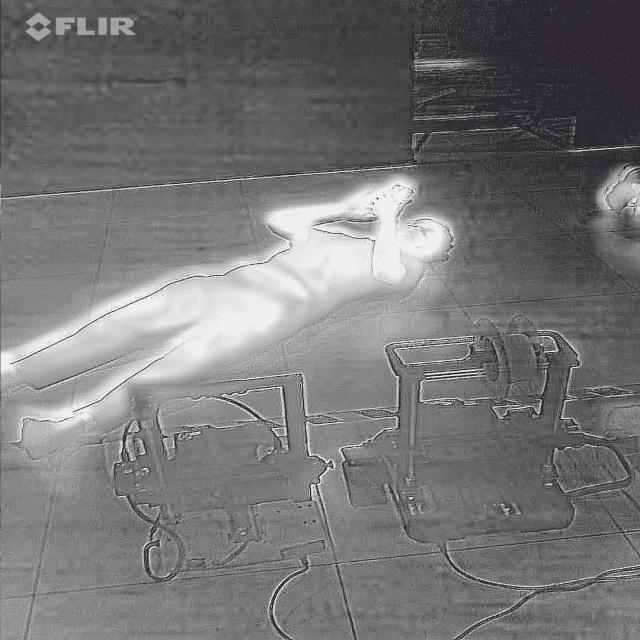Victim: (0, 165, 457, 460)
